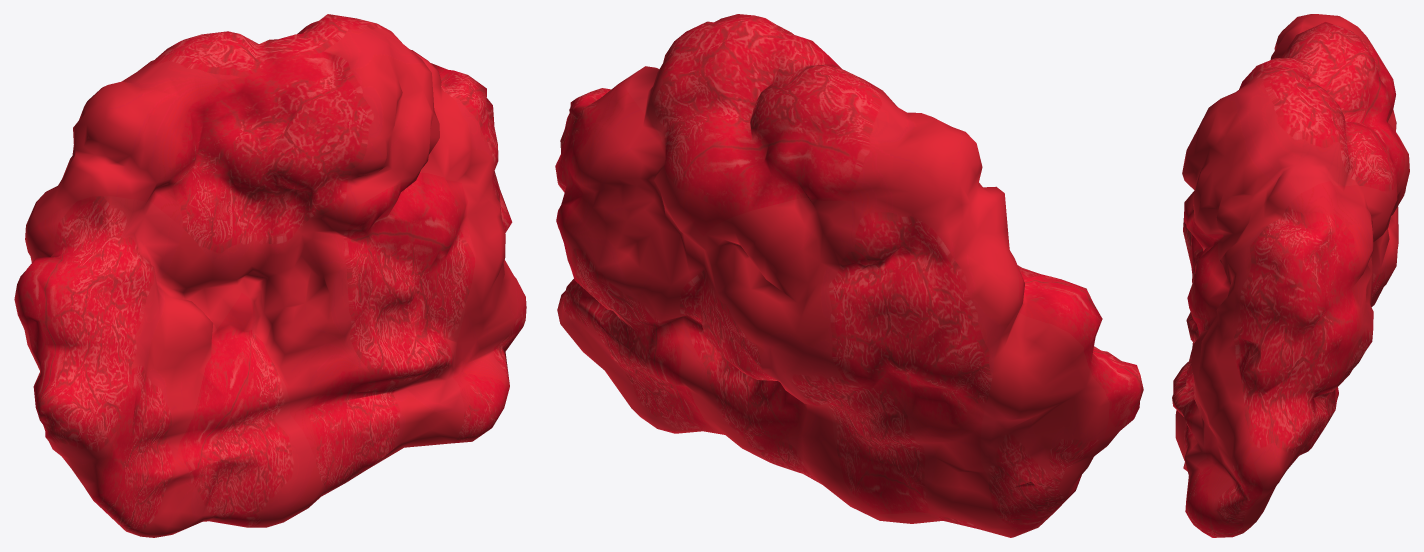
The model's file is SM_e_202_DemonMeatParts_03c.fbx.
3 views of the same model, side by side, from view 1: azimuth 30°, elevation 25°; view 2: azimuth 150°, elevation 25°; view 3: azimuth 270°, elevation 25° (orthographic). The views are drawn at different scales.
Visible parts, largest first — view 1: SM_e_202_DemonMeatParts_03c.001; view 2: SM_e_202_DemonMeatParts_03c.001; view 3: SM_e_202_DemonMeatParts_03c.001.
Boxes of the visible parts, box(x1,y1,x2,y2) form: SM_e_202_DemonMeatParts_03c.001: box(14, 14, 526, 537); SM_e_202_DemonMeatParts_03c.001: box(555, 14, 1143, 537); SM_e_202_DemonMeatParts_03c.001: box(1172, 14, 1409, 537).
Bounding box in the file's own units: 8.77 × 7.52 × 3.59.
Materials: 1 (1 with a texture image).
